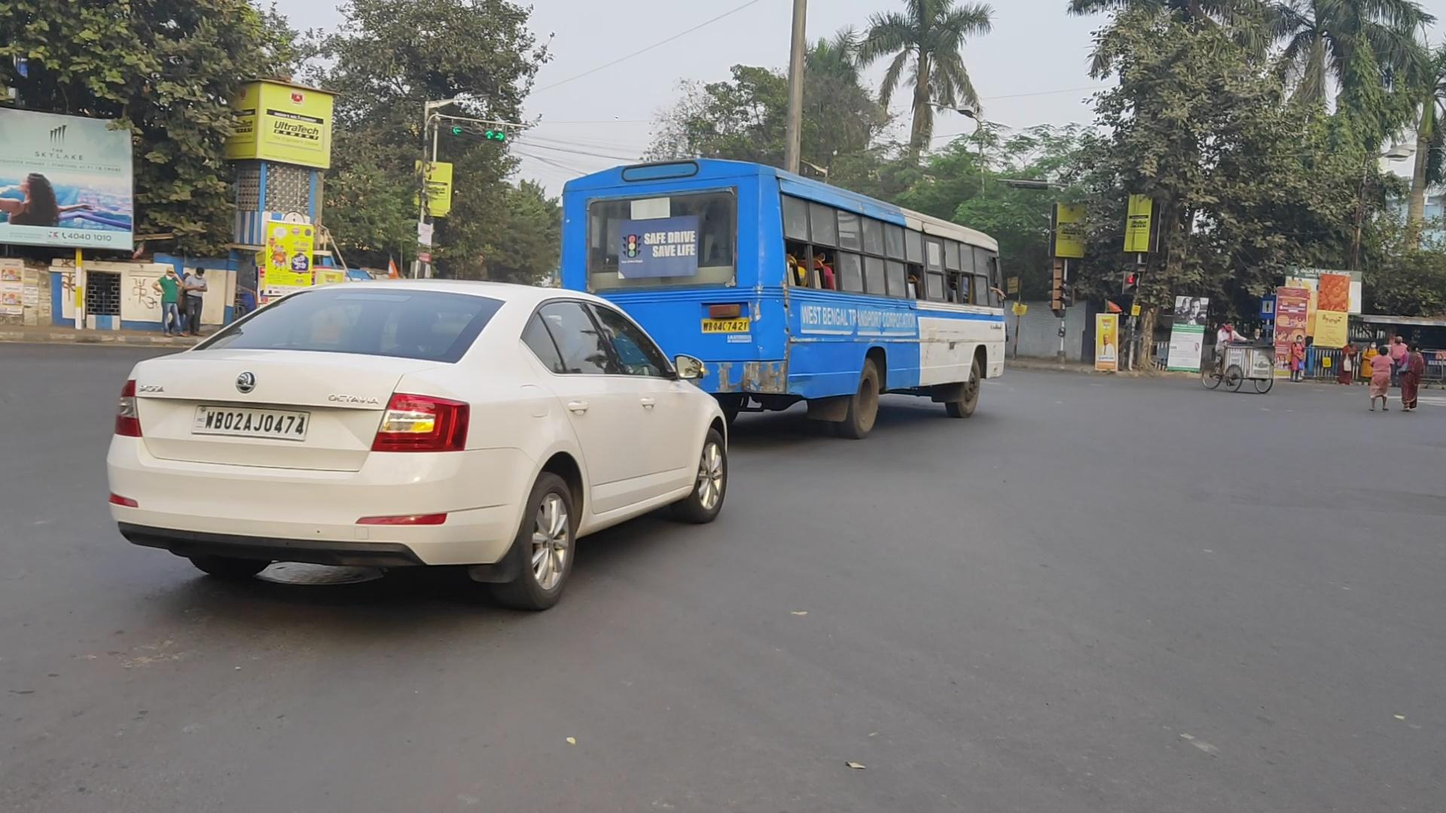Bus: (562, 160, 1006, 440)
car: (106, 276, 730, 612)
